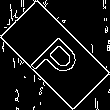P_NE: (24, 24, 86, 86)
